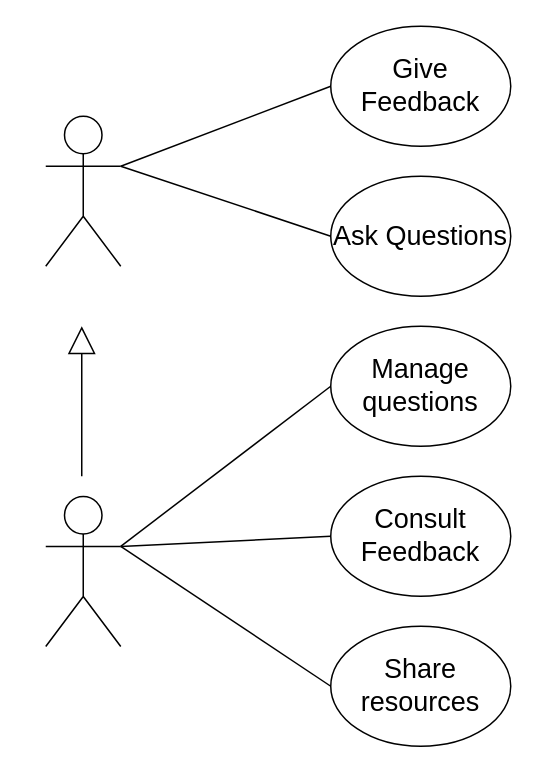
The diagram is 537 pixels wide and 773 high, and some of its shapes have lost their labels. Here are the shapes that lost their labels. From the top down, the centre of each, then its label:
the point at 82,190: Attendee
the point at 82,570: Speaker
